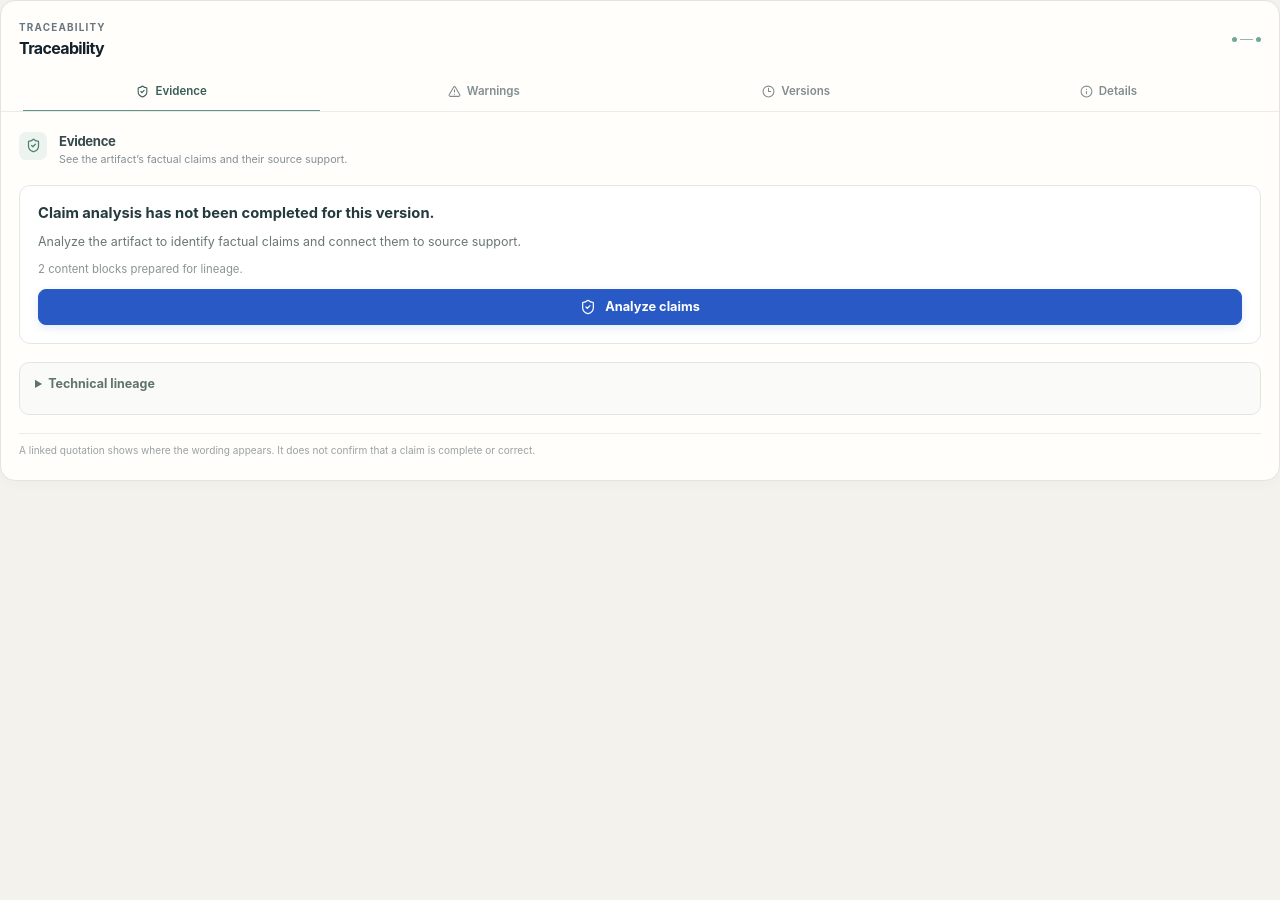
traceability evidence panel › shows an analysis empty state before scanning and hides raw lineage by default
Expected: the heading "Claim analysis has not been completed for this version." is shown, x1=38 y1=204 x2=434 y2=222
Expected: the button "Analyze claims" is shown, x1=38 y1=289 x2=1242 y2=325
Click the heading "Technical lineage".
click(102, 383)  # box x1=48 y1=376 x2=155 y2=391
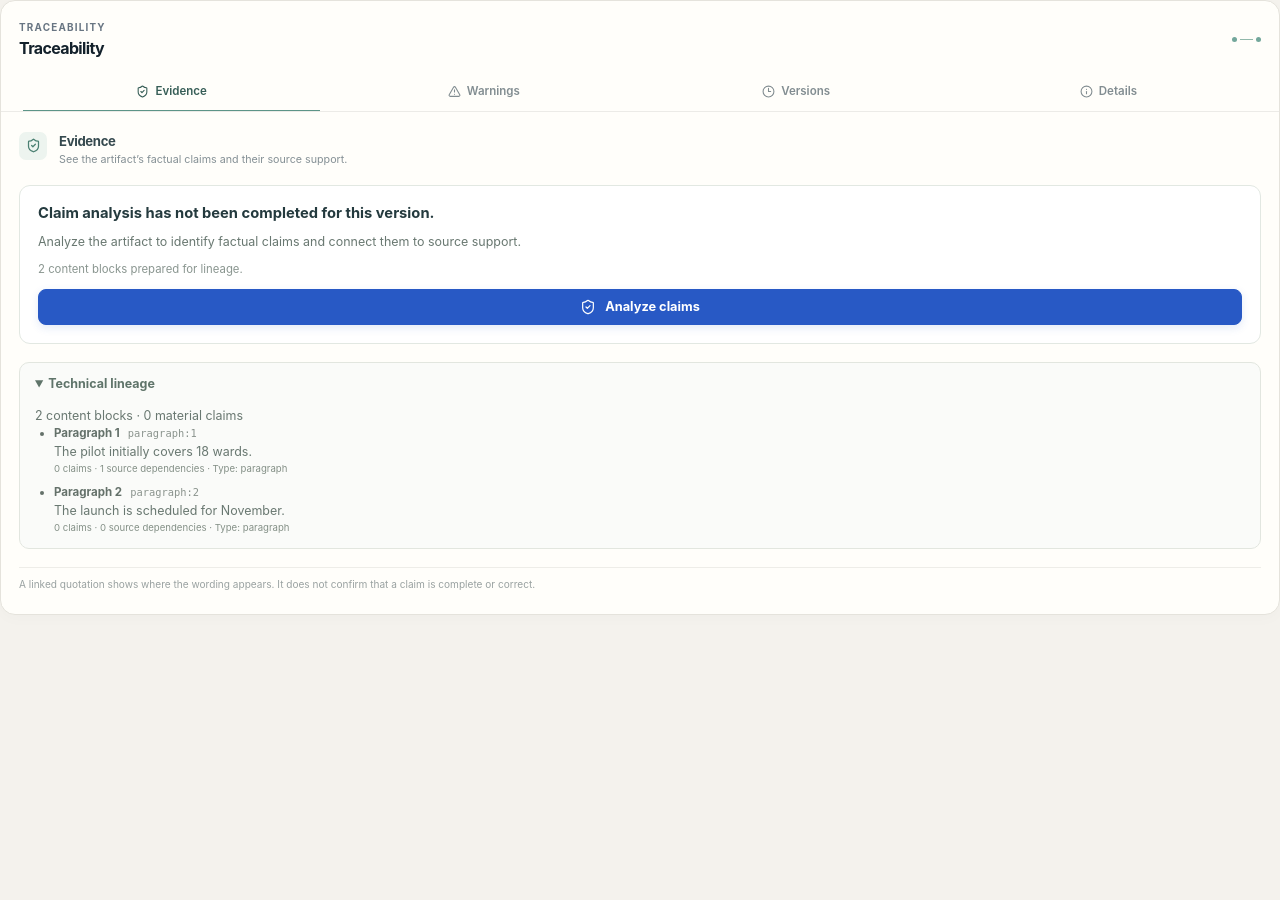
Expected: the text "Paragraph 1" is shown, x1=54 y1=426 x2=120 y2=440
Expected: the text "paragraph:1" is shown, x1=128 y1=427 x2=197 y2=439
